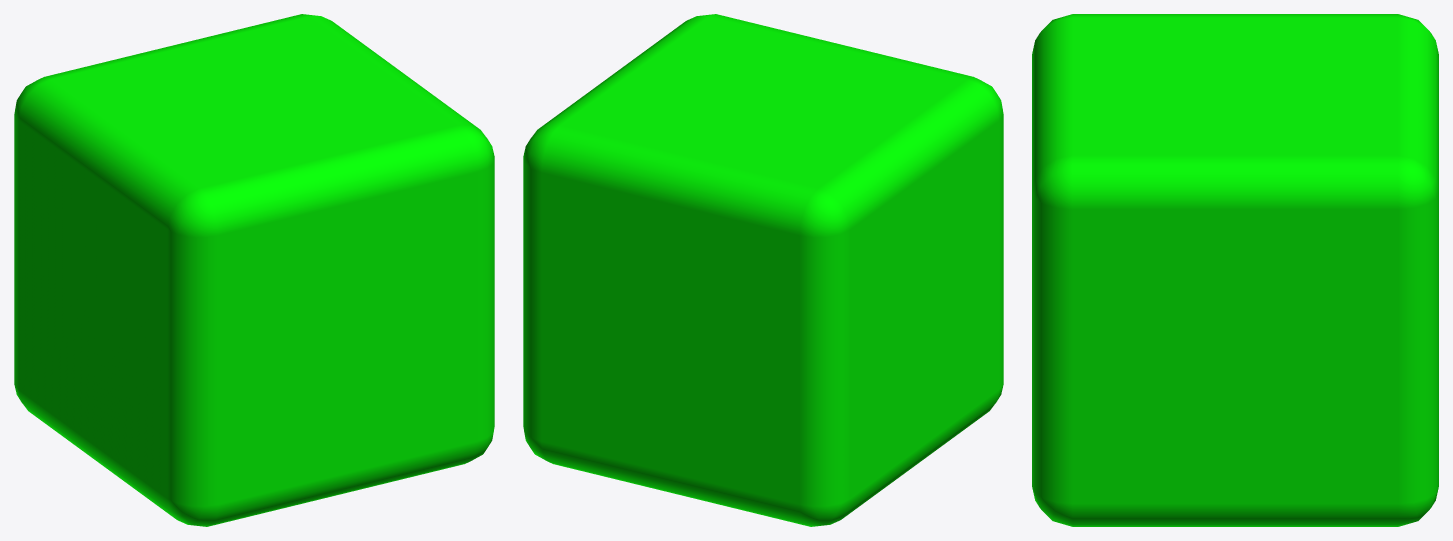
3 renders of one model, left to right at view 1: azimuth 30°, elevation 25°; view 2: azimuth 150°, elevation 25°; view 3: azimuth 270°, elevation 25°, orthographic. The views are drawn at different scales.
Parts seen in each view (by area): view 1: Cube (Change color here pls); view 2: Cube (Change color here pls); view 3: Cube (Change color here pls).
Part boxes in pixels (x1,y1,x2,y2): Cube (Change color here pls): [14, 14, 494, 526]; Cube (Change color here pls): [523, 14, 1003, 526]; Cube (Change color here pls): [1032, 14, 1438, 526].
Size of the model in its own units: 1 by 0.9954 by 0.9985.
